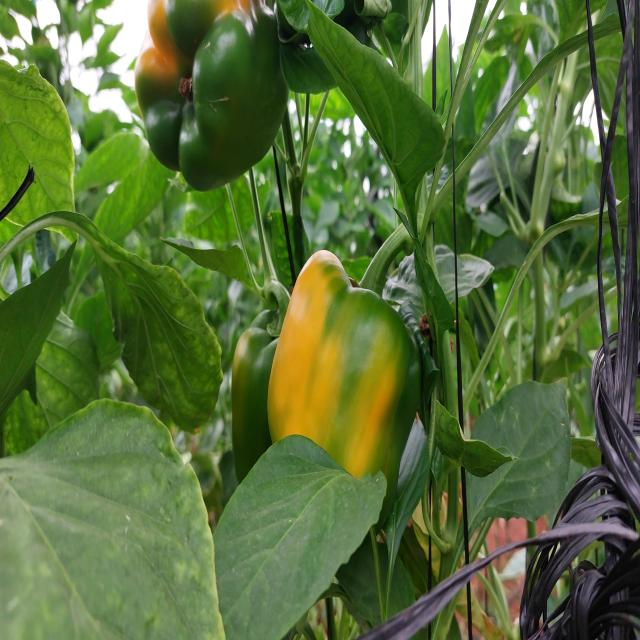GreenishYellow--Can-be-Harvested: (246, 204, 429, 533)
